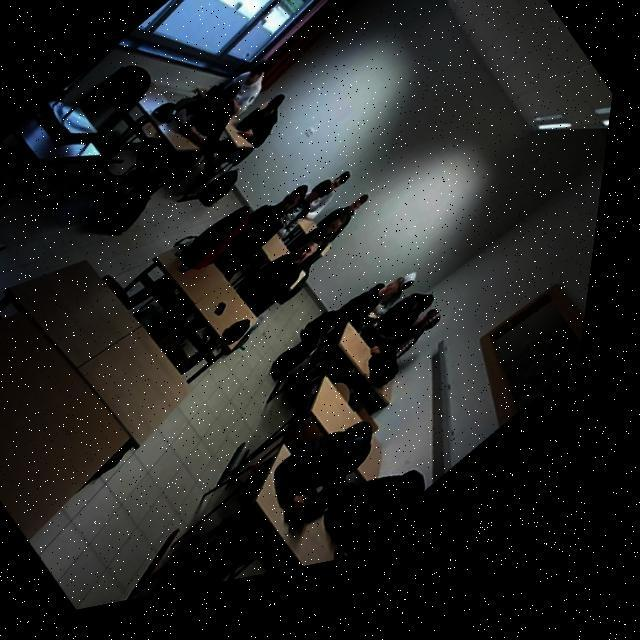phone_use: (274, 412, 371, 527), (152, 71, 261, 147), (376, 292, 438, 355), (236, 93, 283, 146)
